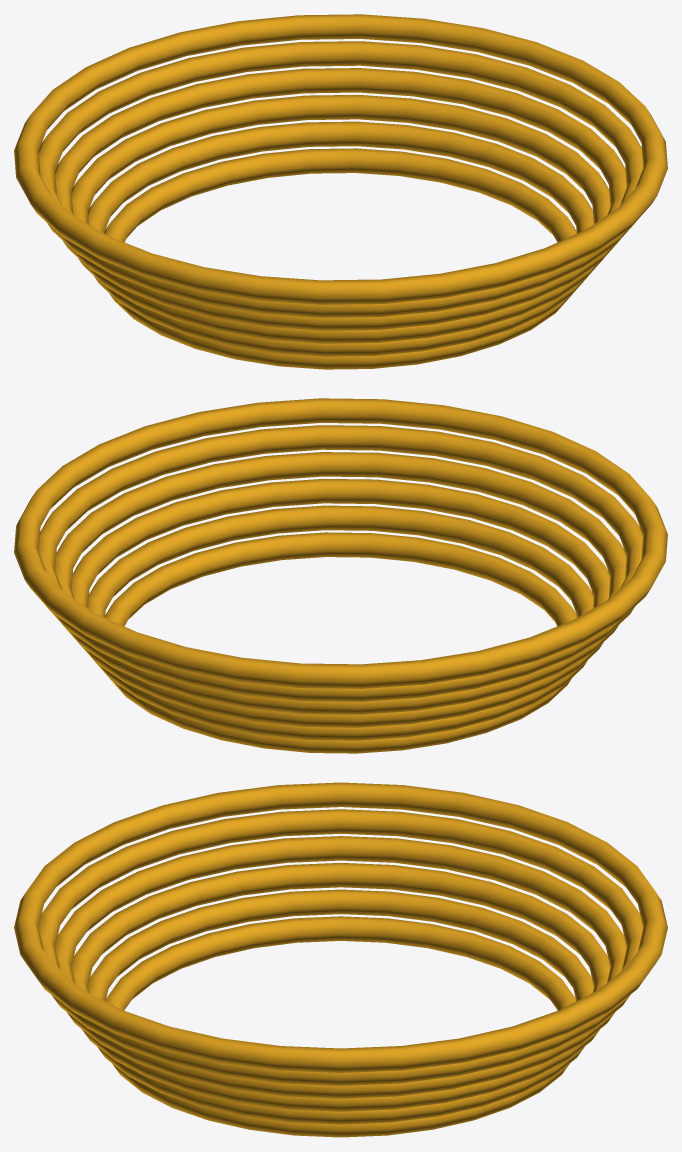
File: prolunga.glb
The picture shows the model from 3 angles, top to bottom: view 1: azimuth 30°, elevation 25°; view 2: azimuth 150°, elevation 25°; view 3: azimuth 270°, elevation 25°; orthographic projection.
Bounding box in the file's own units: 0.478 × 0.0956 × 0.478.
